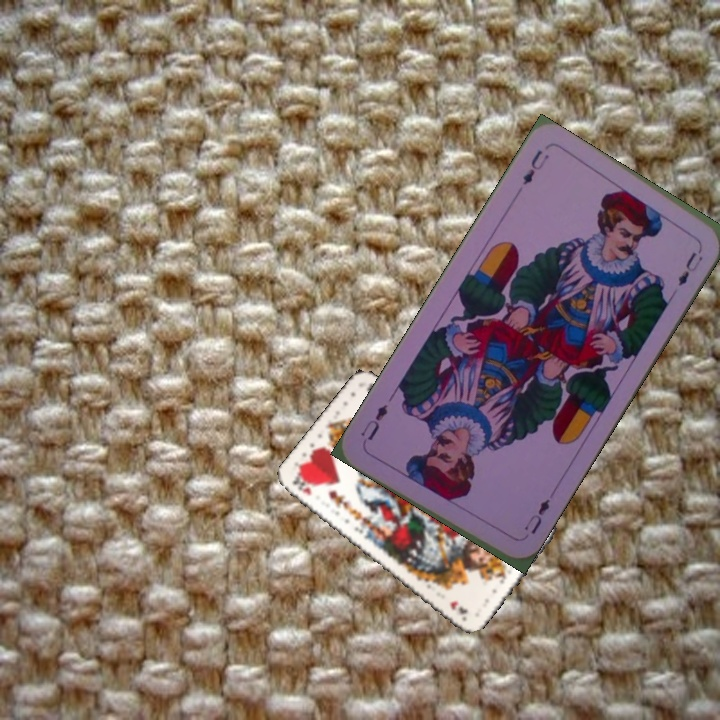EU: (518, 145, 552, 188), (520, 494, 553, 538)
HK: (288, 473, 314, 498)
